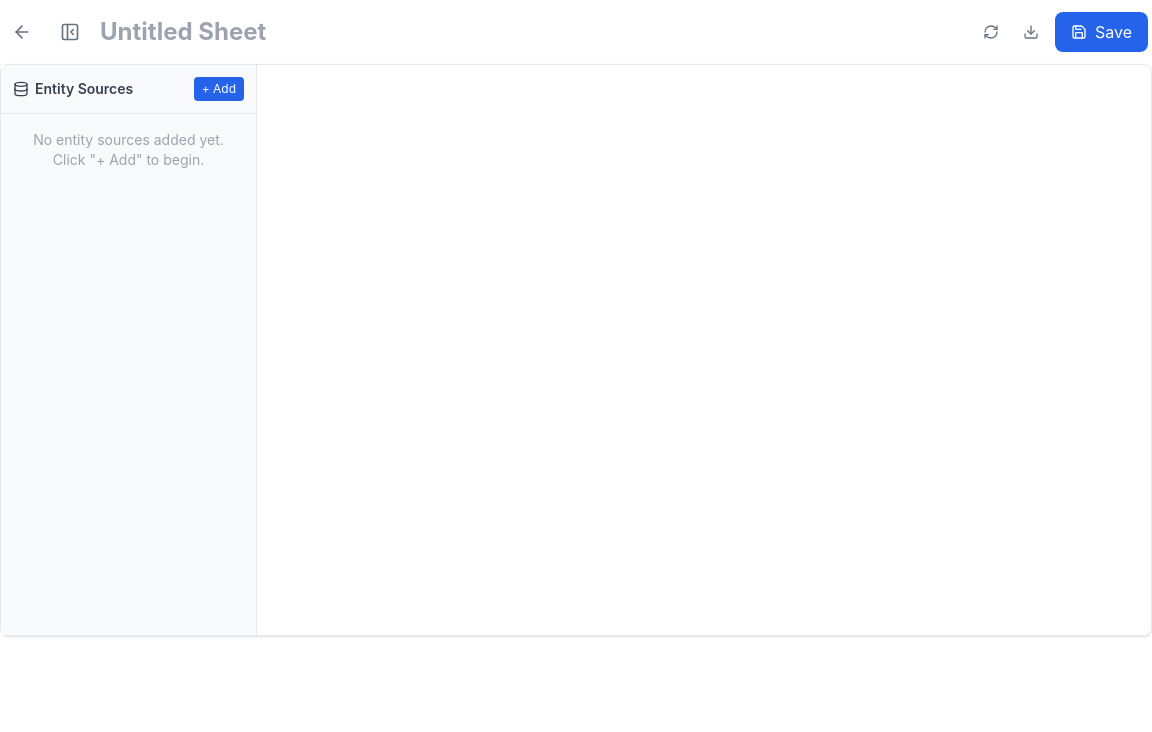
Test: RfSheetPage — UI features & design mode › toggles entity panel on click
The width and height of the screenshot is (1152, 732).
Click the button titled "Hide entity panel".
click(70, 32)  # box [52,14,88,50]
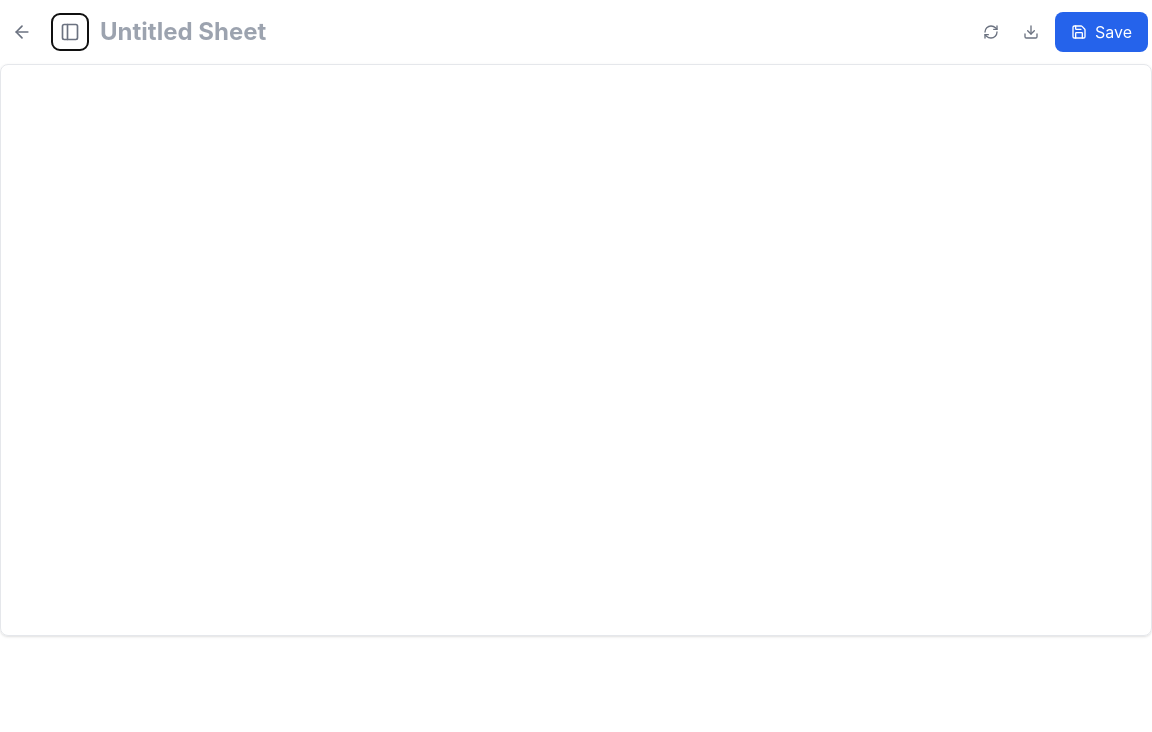
Result: the button titled "Show entity panel" is shown at [52,14,88,50]
